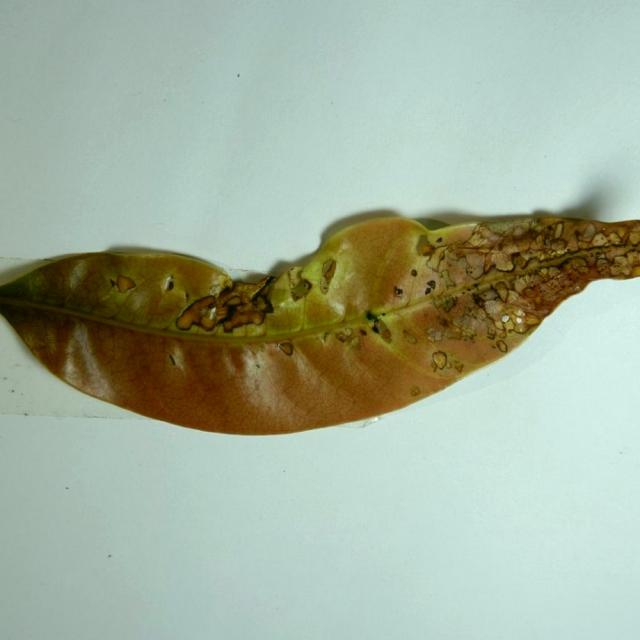Anthracnose: (7, 291, 226, 332), (362, 282, 478, 342), (354, 307, 432, 376), (421, 221, 483, 244), (0, 271, 42, 301), (540, 251, 593, 273), (367, 312, 394, 344), (480, 219, 528, 237), (248, 275, 275, 302), (538, 243, 573, 261), (291, 279, 311, 300), (416, 234, 435, 255), (164, 275, 174, 292), (394, 286, 403, 297), (169, 354, 176, 366), (109, 278, 116, 288), (380, 312, 386, 318)
Mango: (0, 210, 639, 438)
